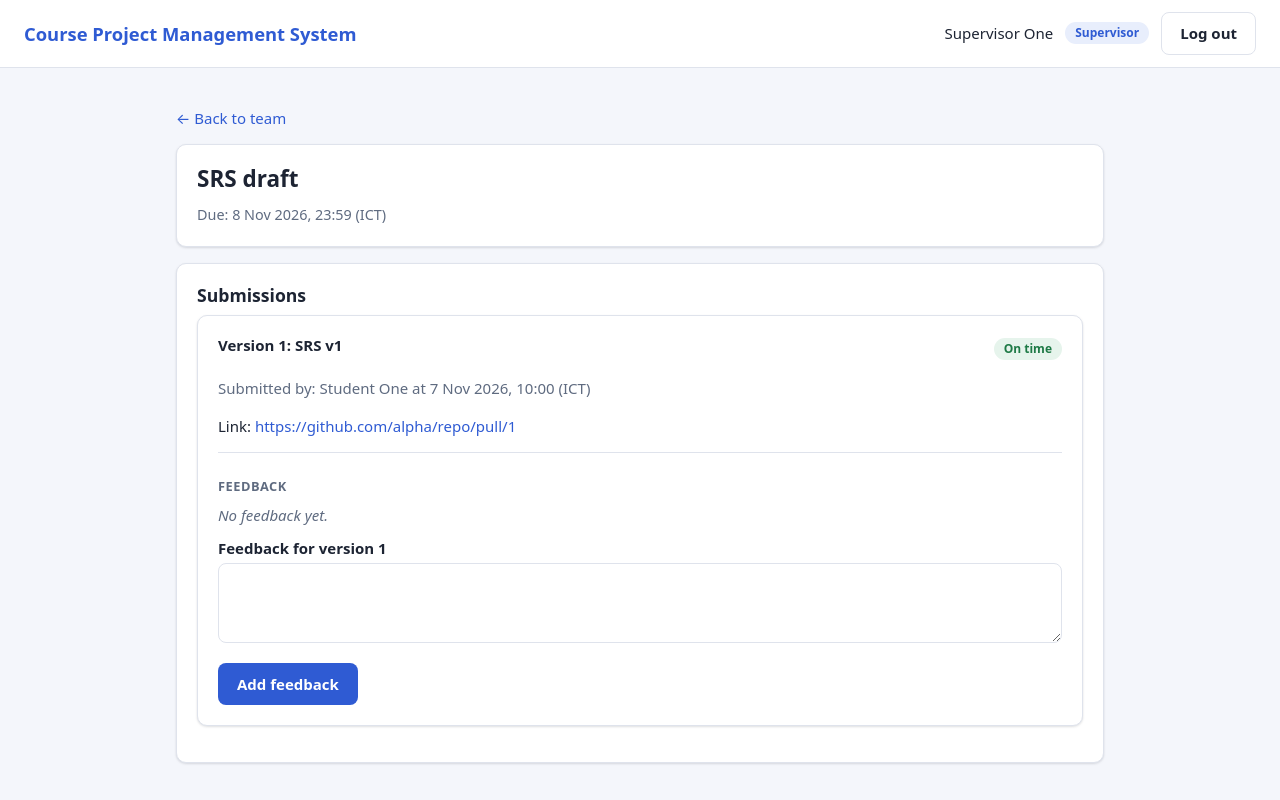
F-04 Feedback UI › TEST-04-12: supervisor sees the API validation error under the feedback field
This screenshot has width=1280, height=800.
Click the button "Add feedback": x=288, y=684 x1=218 y1=663 x2=358 y2=705
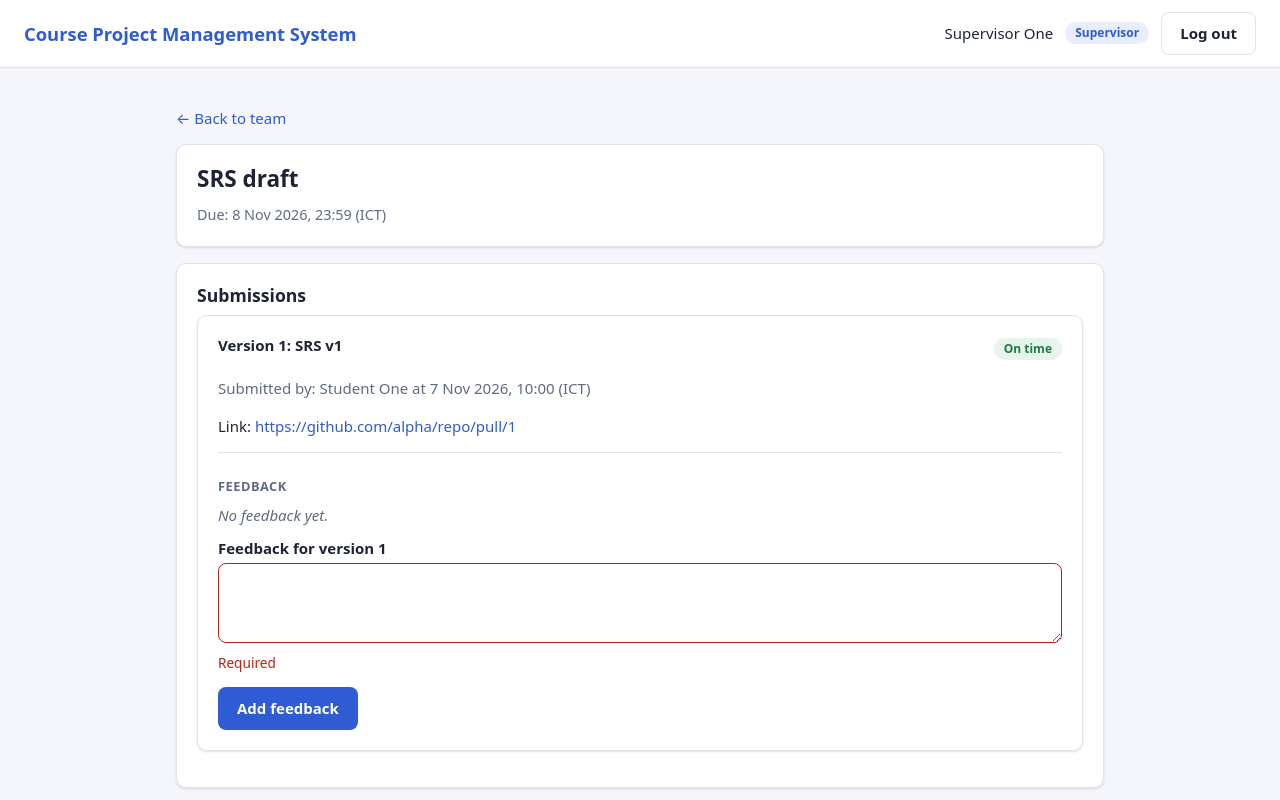
Expected: the text "Required" is shown, x1=218 y1=653 x2=276 y2=672
